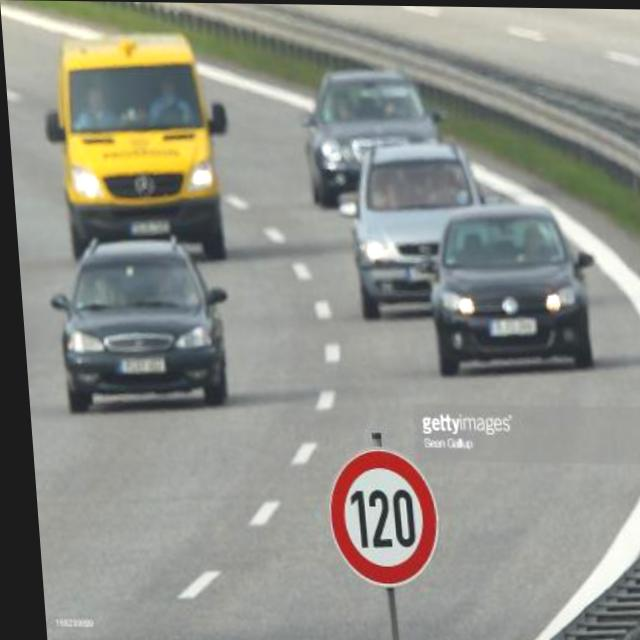limit120: (311, 437, 443, 591)
